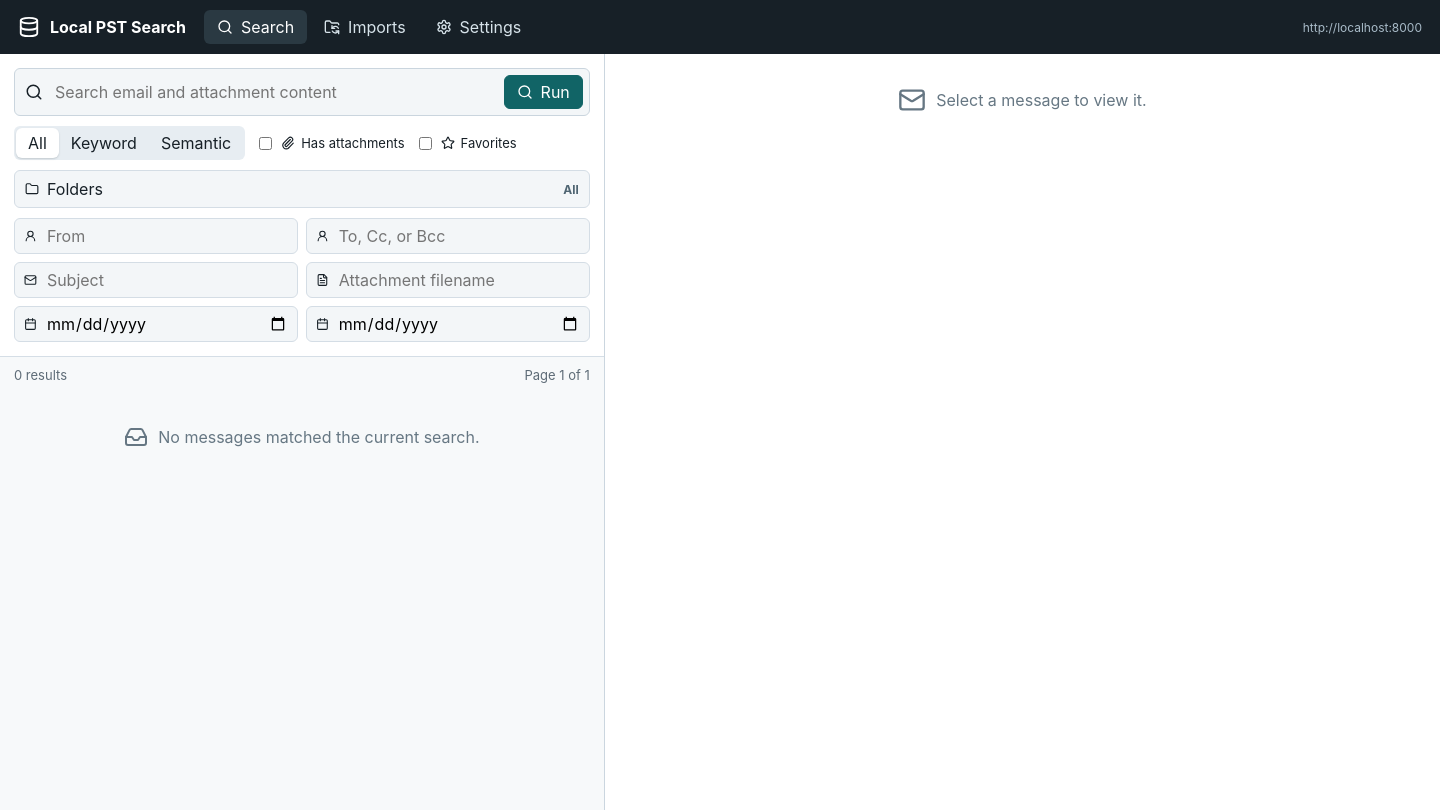
Imports tab › restores the import button when starting an import fails
What coordinates should you click on to do the following:
click the button "Imports"
I would click on:
 (365, 27)
Its box is [311,10,419,44].
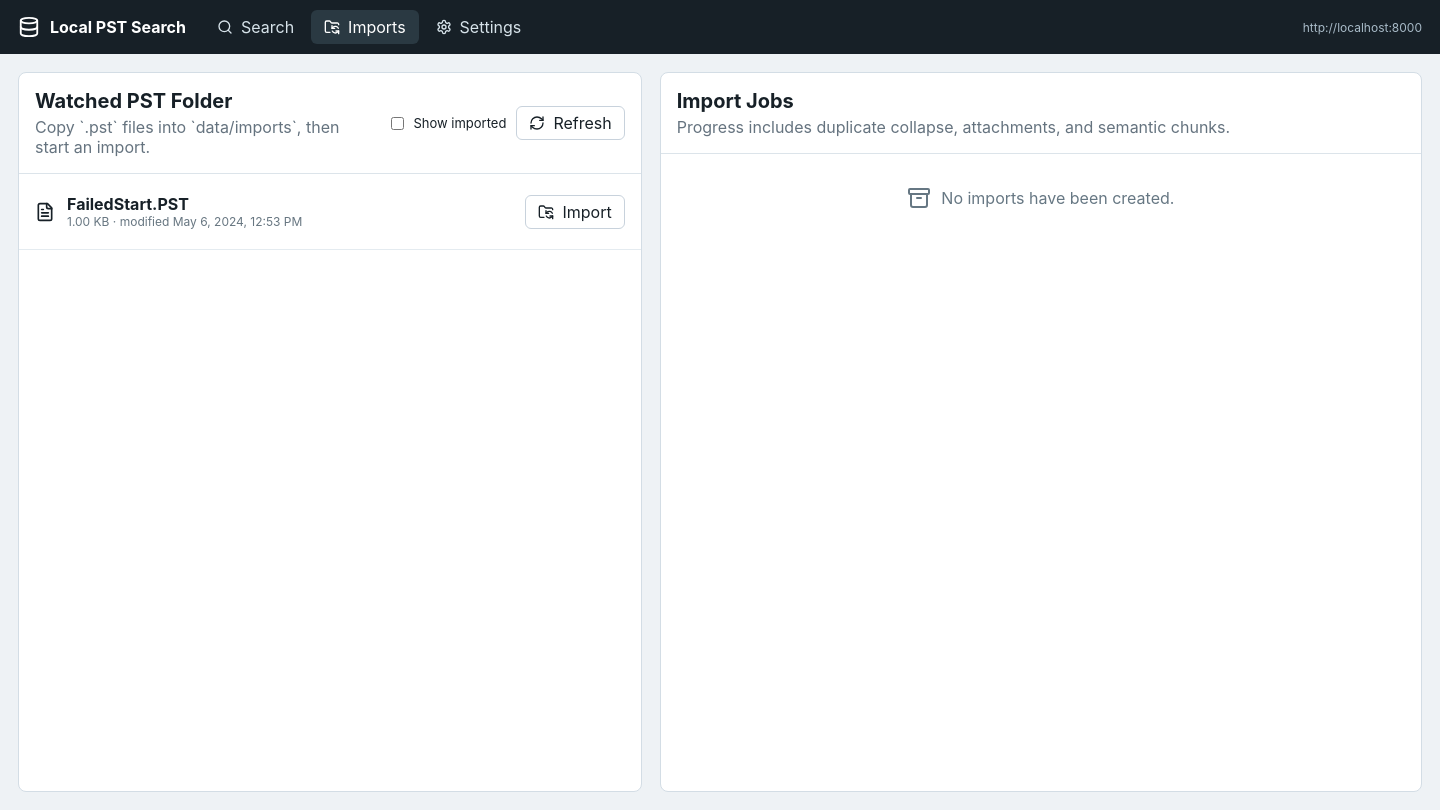
Result: the heading "Watched PST Folder" is shown at [35,89,232,113]
What coordinates should you click on to do the following:
click the button "Import"
I would click on:
 (575, 212)
Its box is [526,194,625,228].
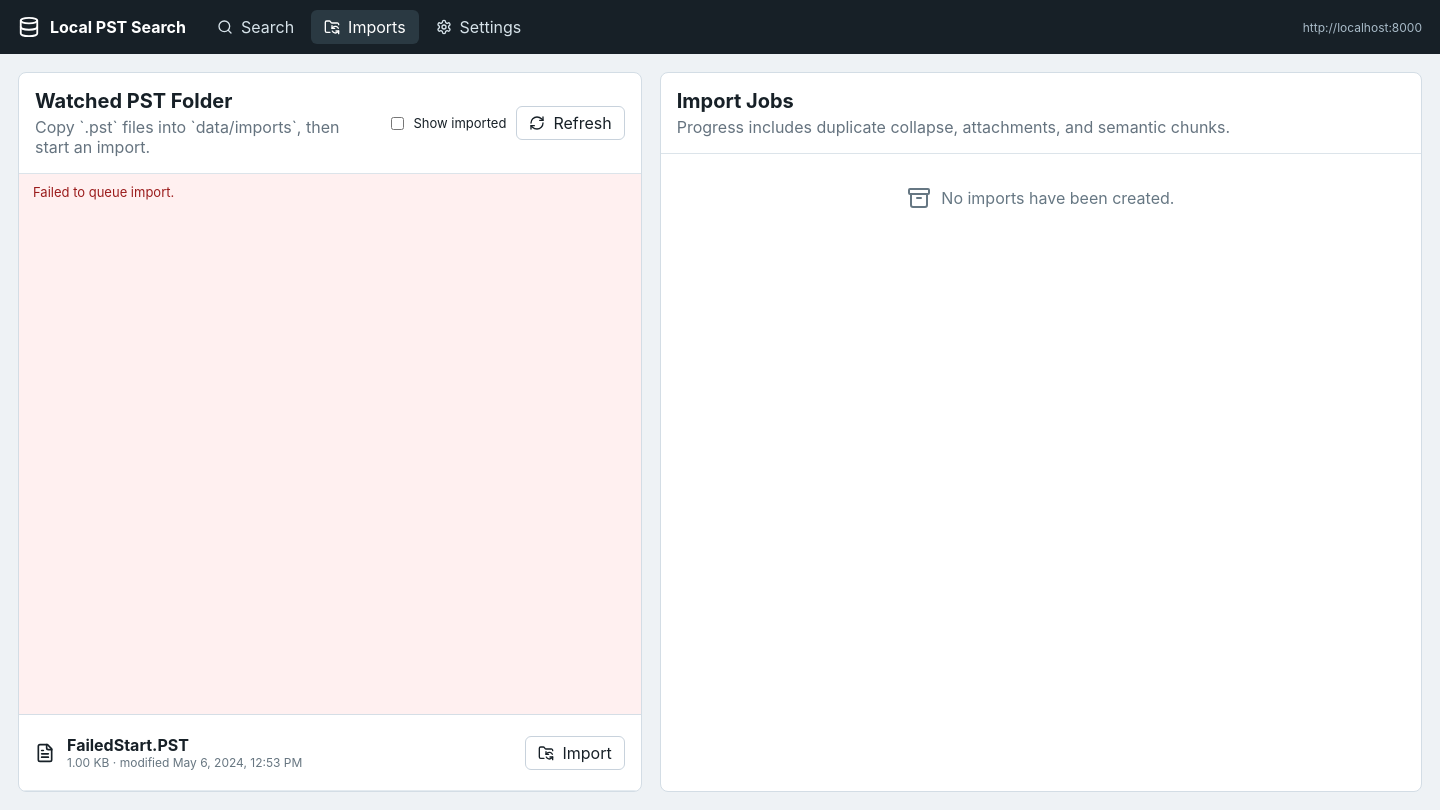
Result: the button "Import" is shown at [526,736,625,770]
Result: the text "Failed to queue import." is shown at [19,174,641,715]
